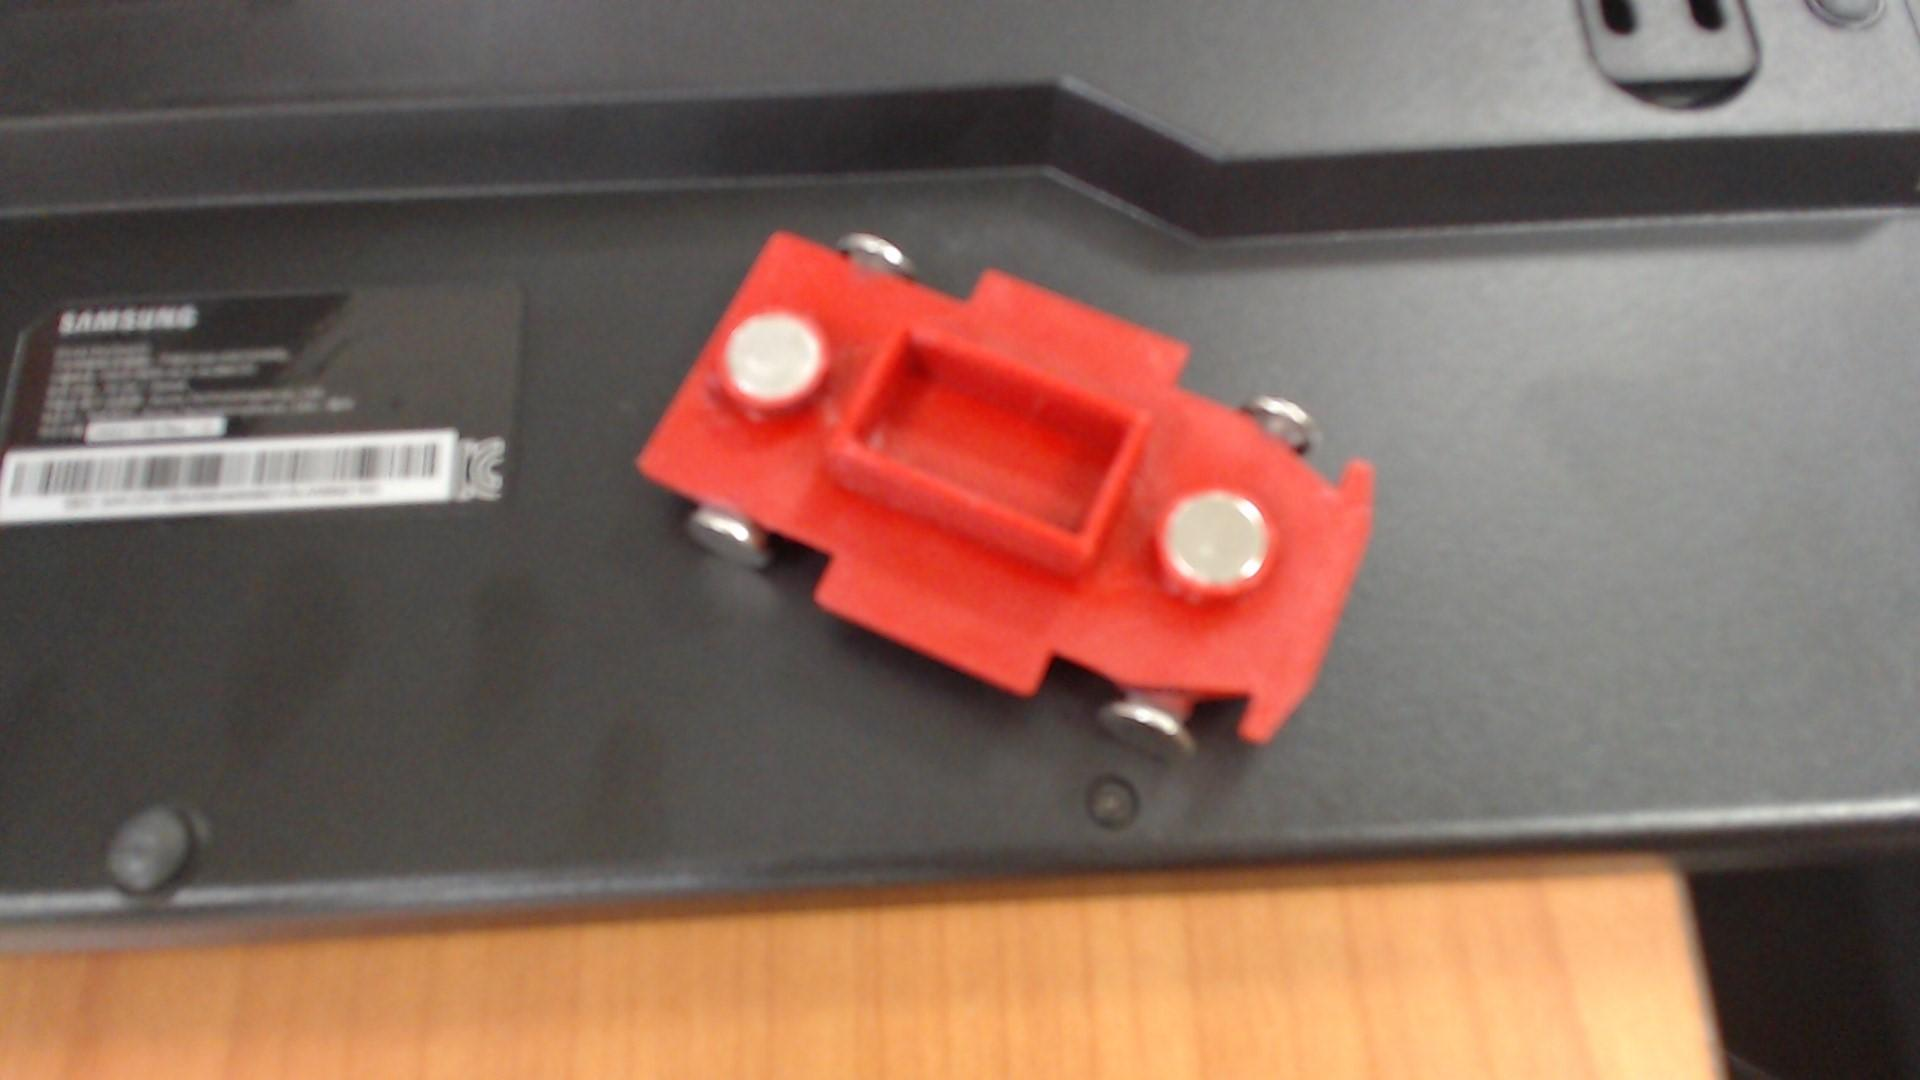lower_ok: (810, 310, 1179, 597)
